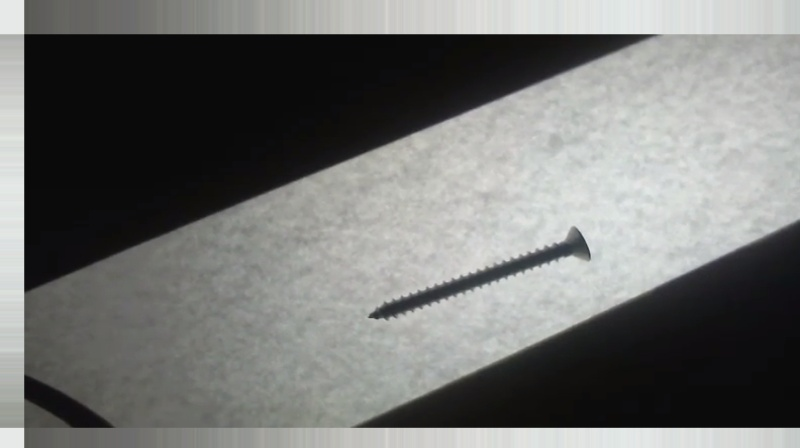S002: (363, 222, 597, 324)
